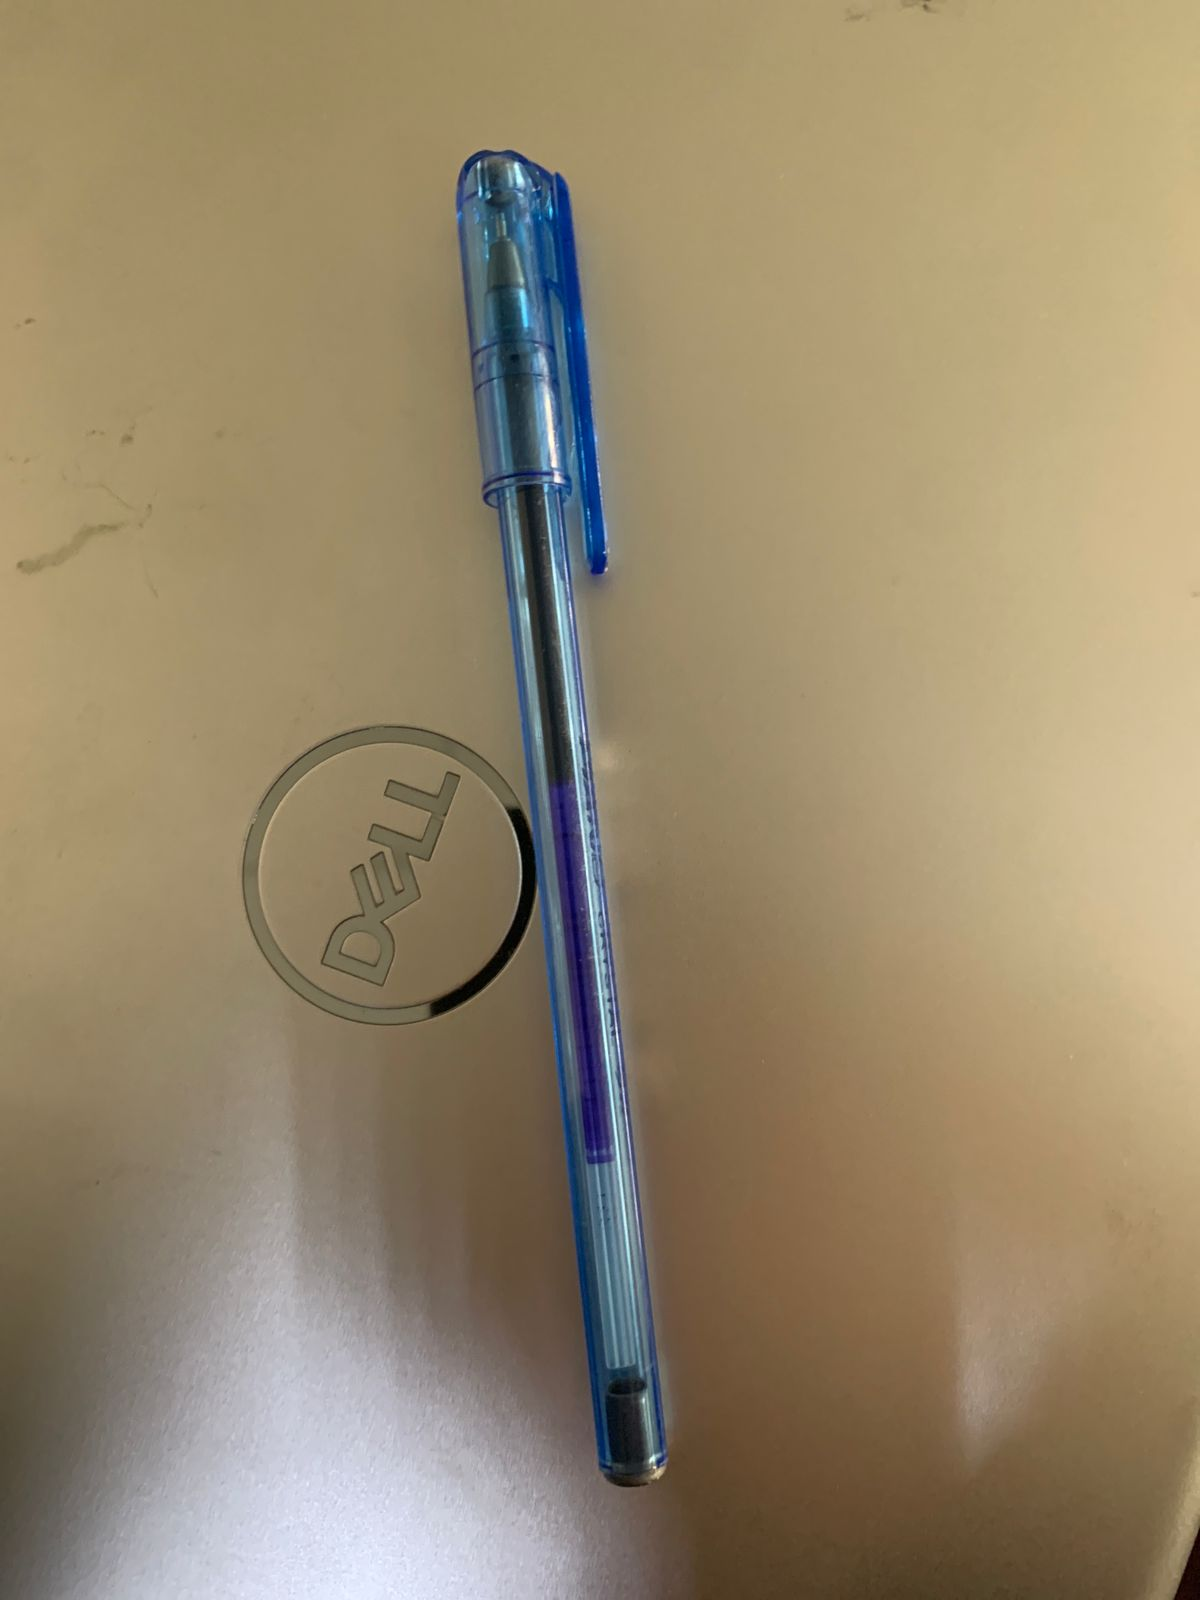pen: (279, 83, 897, 1567)
